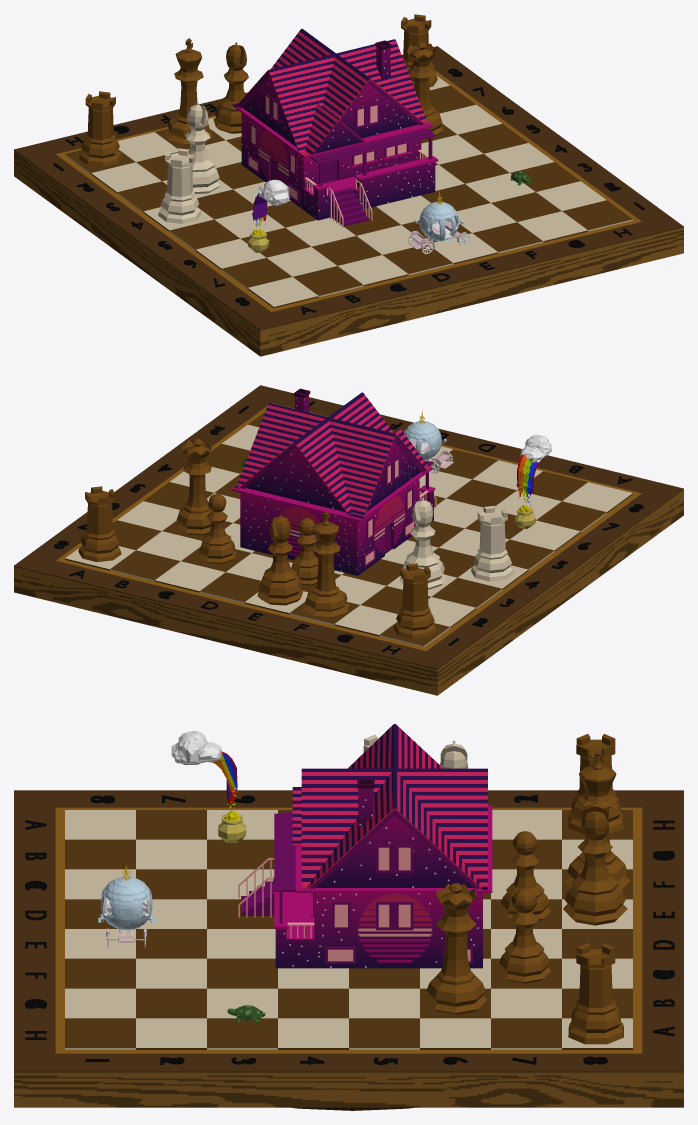
The picture shows the model from 3 angles, top to bottom: view 1: azimuth 30°, elevation 25°; view 2: azimuth 150°, elevation 25°; view 3: azimuth 270°, elevation 25°; orthographic projection. The views are drawn at different scales.
Parts seen in each view (by area): view 1: Cube.002, Cube.156, VEHICLES_FANTASY_CARRIAGE, OBJRANDOM_RAINBOW; view 2: Cube.002, Cube.156, OBJRANDOM_RAINBOW, VEHICLES_FANTASY_CARRIAGE; view 3: Cube.002, Cube.156, VEHICLES_FANTASY_CARRIAGE, OBJRANDOM_RAINBOW.
Part boxes in pixels (box(x1,y1,x2,y2)): Cube.002: box(14, 14, 683, 356); Cube.156: box(232, 28, 438, 227); VEHICLES_FANTASY_CARRIAGE: box(407, 191, 469, 254); OBJRANDOM_RAINBOW: box(248, 179, 289, 252); Cube.002: box(14, 385, 683, 695); Cube.156: box(231, 388, 436, 575); OBJRANDOM_RAINBOW: box(514, 434, 551, 529); VEHICLES_FANTASY_CARRIAGE: box(404, 411, 453, 473); Cube.002: box(14, 734, 683, 1107); Cube.156: box(238, 724, 492, 968); VEHICLES_FANTASY_CARRIAGE: box(98, 864, 154, 947); OBJRANDOM_RAINBOW: box(171, 731, 246, 842).
Size of the model in its own units: 3981 by 1551 by 4012.
40 materials, 4 textured.
